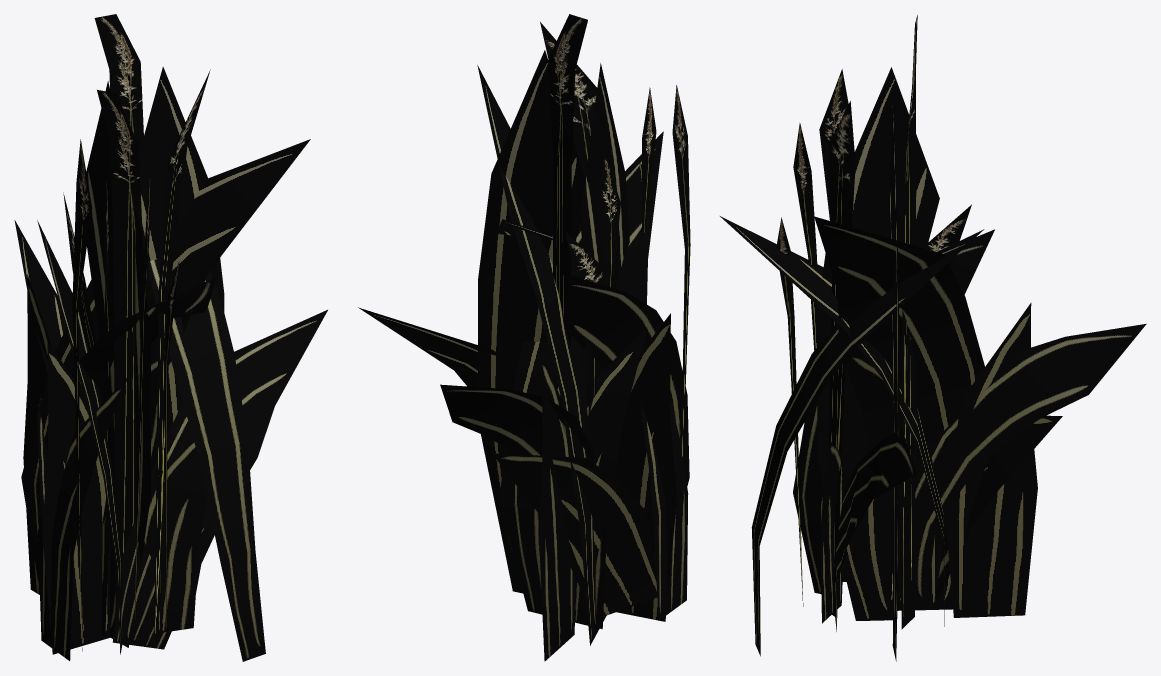
Rendered from SM_Grass_04.fbx.
The picture shows the model from 3 angles, left to right: view 1: azimuth 30°, elevation 25°; view 2: azimuth 150°, elevation 25°; view 3: azimuth 270°, elevation 25°; orthographic projection.
Visible parts, largest first — view 1: SM_Grass_04; view 2: SM_Grass_04; view 3: SM_Grass_04.
Boxes of the visible parts, x1=… form: SM_Grass_04: x1=14, y1=14, x2=327, y2=661; SM_Grass_04: x1=358, y1=14, x2=690, y2=661; SM_Grass_04: x1=720, y1=15, x2=1146, y2=661.
Size of the model in its own units: 65.39 by 79.75 by 125.
1 material, 1 textured.
